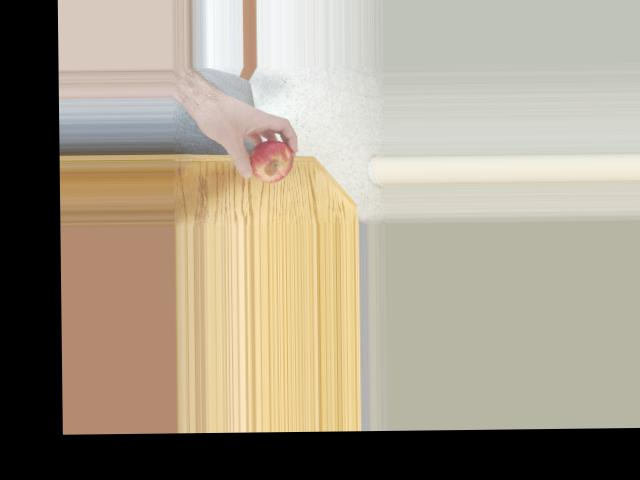apple: (243, 139, 295, 183)
